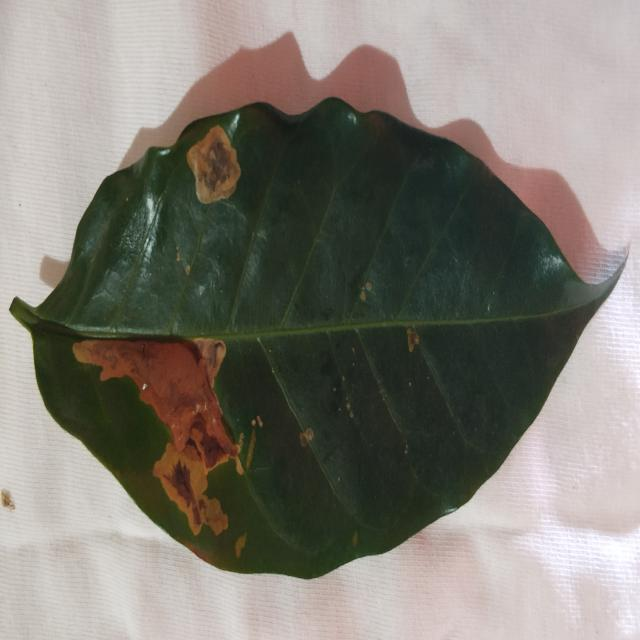Plaga-Minador: (9, 98, 621, 581)
